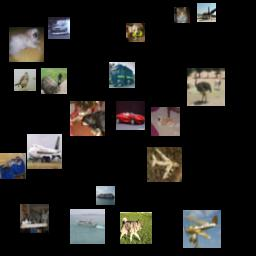airplane: (183, 210, 221, 248), (147, 147, 182, 182), (27, 134, 62, 169), (197, 3, 216, 22)
automobile: (116, 101, 145, 130), (48, 17, 70, 39)
bird: (187, 68, 225, 106), (41, 68, 67, 94), (14, 69, 36, 91)
cat: (20, 204, 49, 233), (0, 153, 26, 179), (174, 7, 190, 23)
dog: (70, 101, 105, 136), (9, 27, 44, 62), (120, 212, 152, 244), (151, 107, 180, 136), (126, 23, 145, 42)
ship: (70, 209, 105, 244), (96, 186, 115, 205)
truck: (109, 62, 135, 88)
